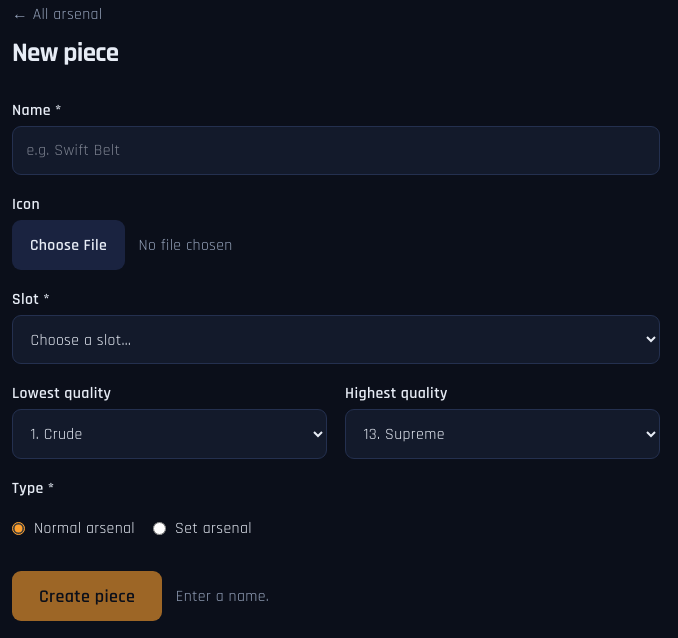
Test: ArsenalPieceFormPage › blocks a lowest quality above the highest
Type "Odd Boots" into the field labelled "Name *" at [336, 151], box left=12, top=126, right=660, bottom=176
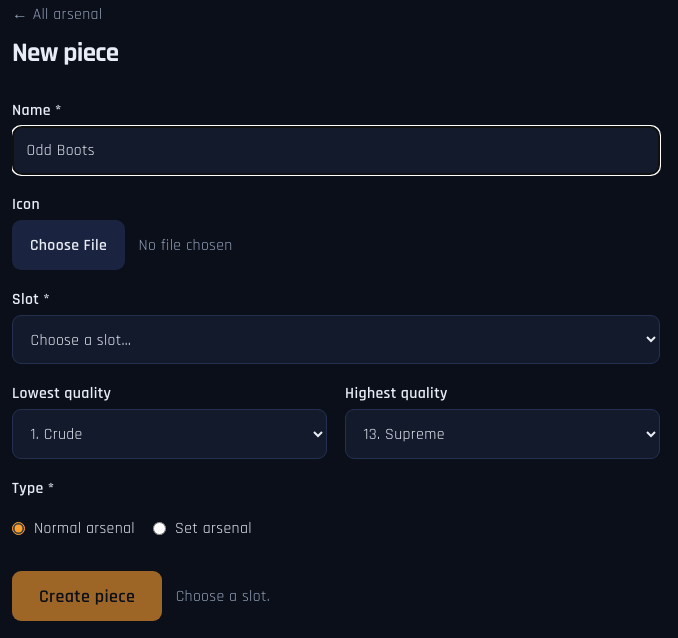
Select "Boots" in the dropdown labelled "Slot *" at [336, 340], box left=12, top=315, right=660, bottom=364
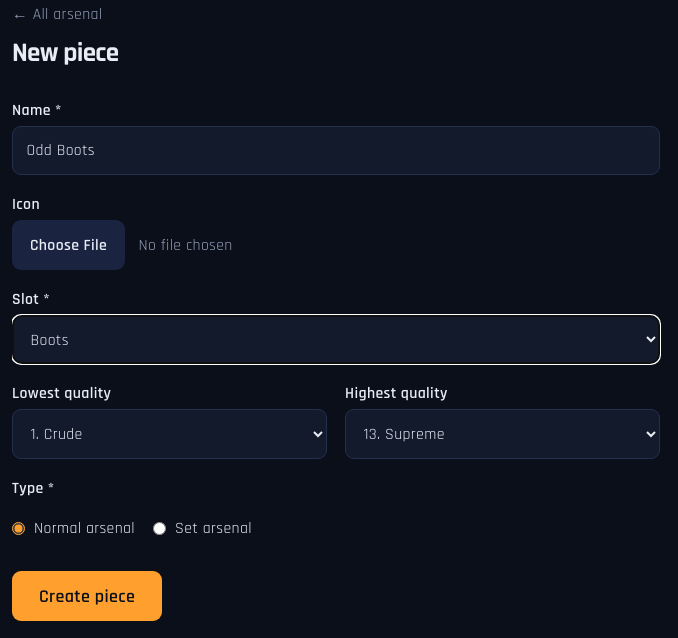
Select "9. Mythic+1" in the dropdown labelled "Lowest quality" at [170, 434], box left=12, top=410, right=327, bottom=459
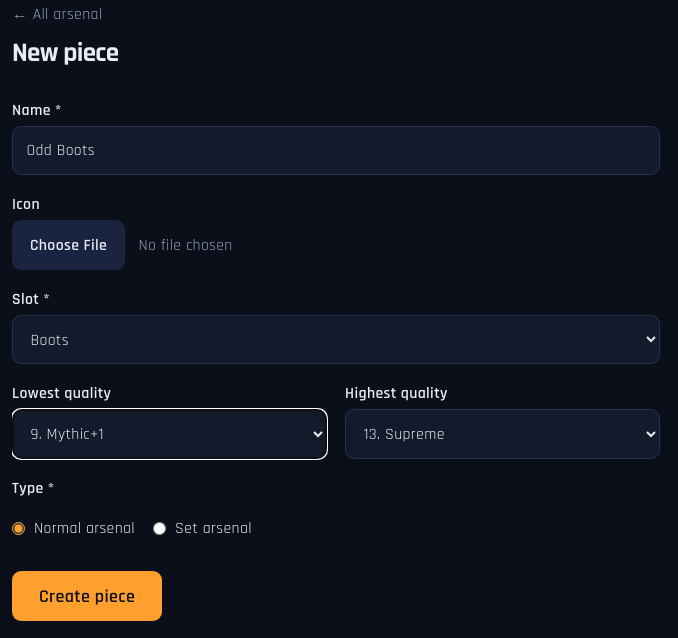
Select "8. Mythic" in the dropdown labelled "Highest quality" at [502, 434], box left=345, top=410, right=660, bottom=459
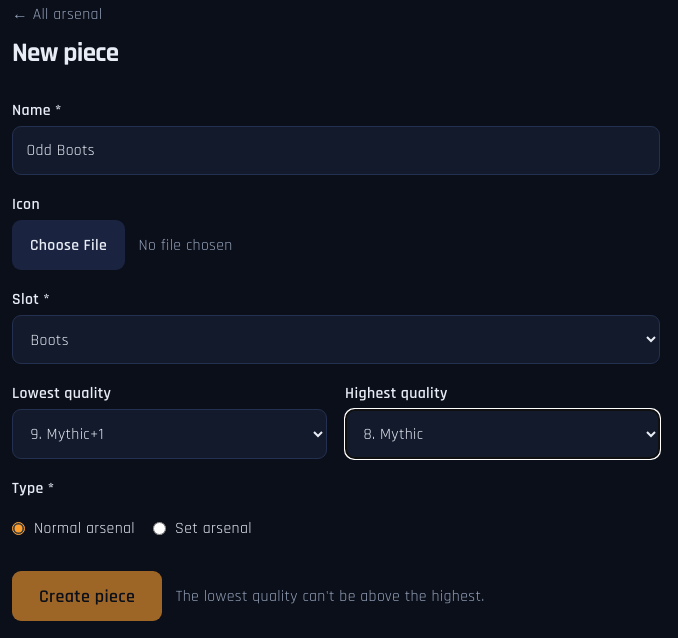
Expected: the text "The lowest quality can't be above the highest." is shown, left=176, top=585, right=485, bottom=608
Expected: the button "Create piece" is disabled, left=12, top=572, right=162, bottom=621
